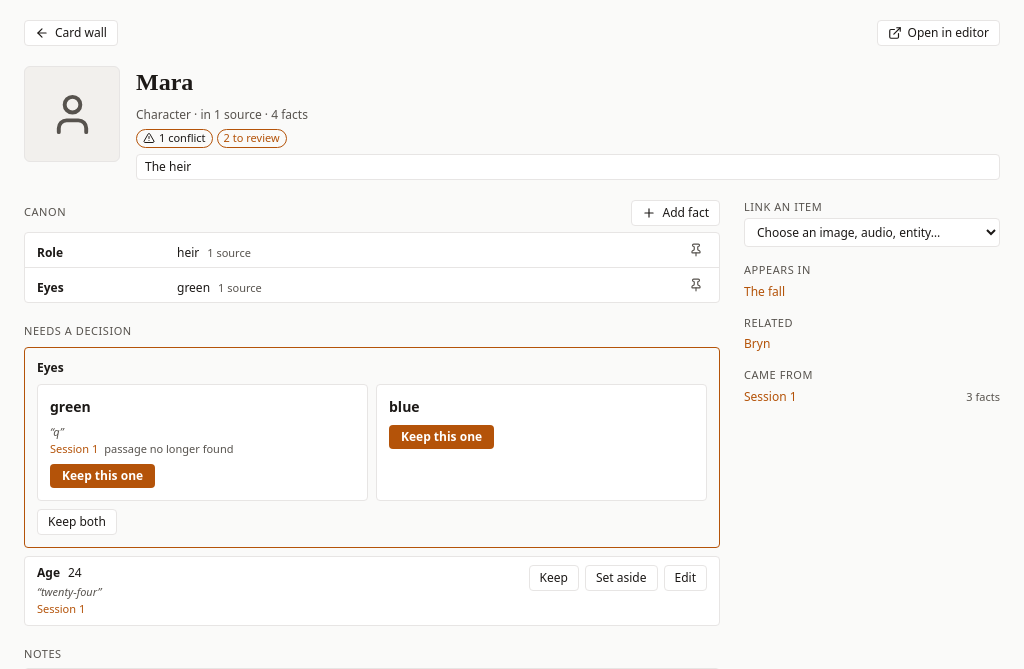
Scenario: EntityCard › adds a kept manual fact
The image size is (1024, 669).
Click the button "Add fact".
click(676, 212)  # box [632,200,720,226]
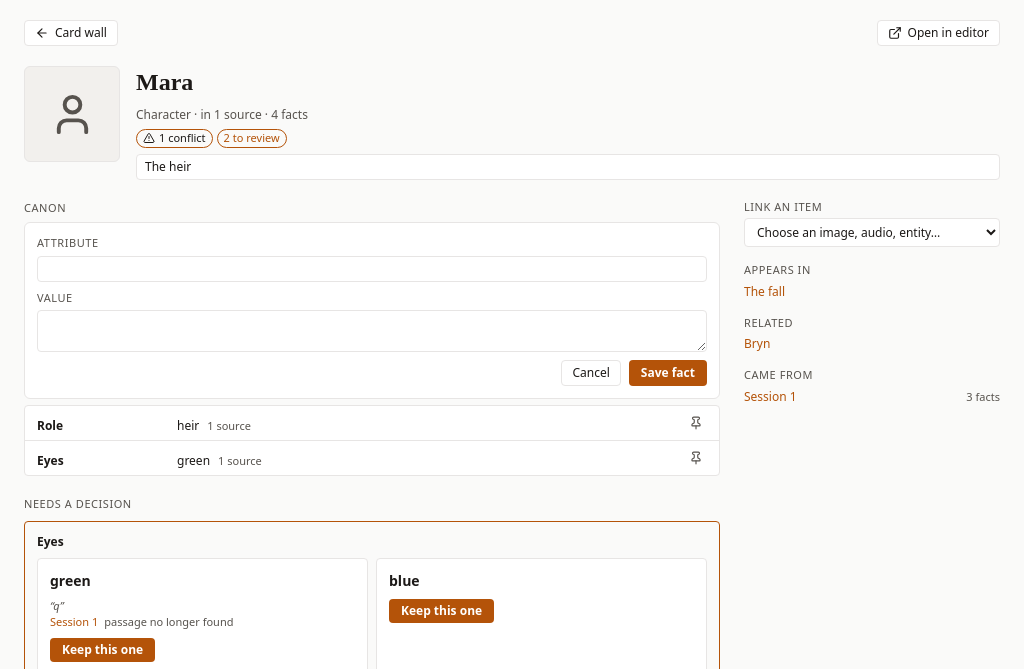
Type "Hair" into the field labelled "Attribute".
click(372, 268); type("Hair")  # box [37,256,707,282]
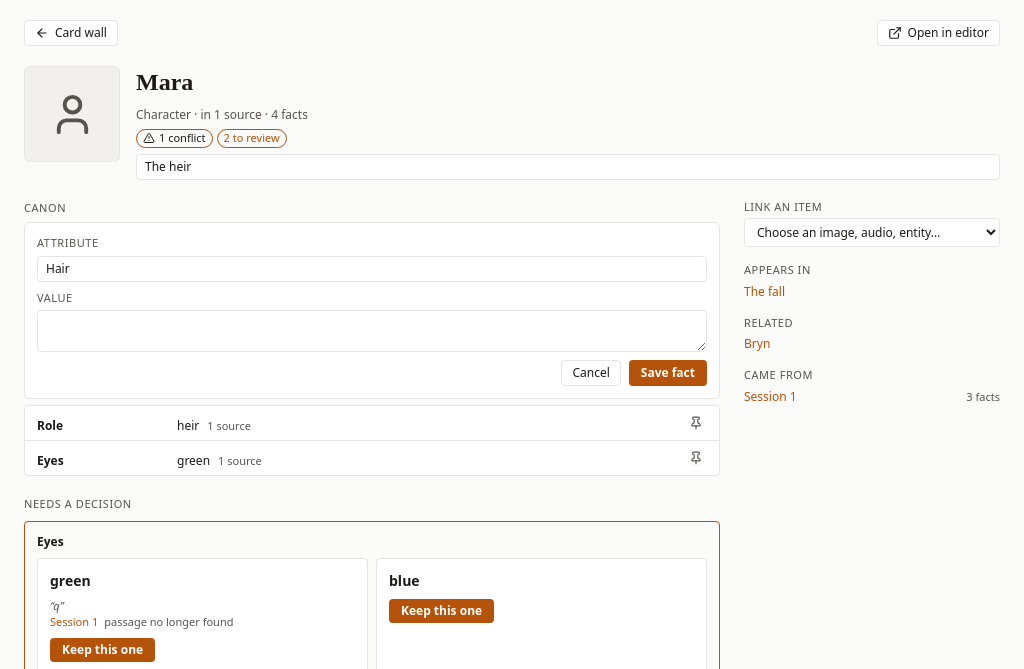
Type "red" into the text box labelled "Value".
click(372, 331); type("red")  # box [37,310,707,352]
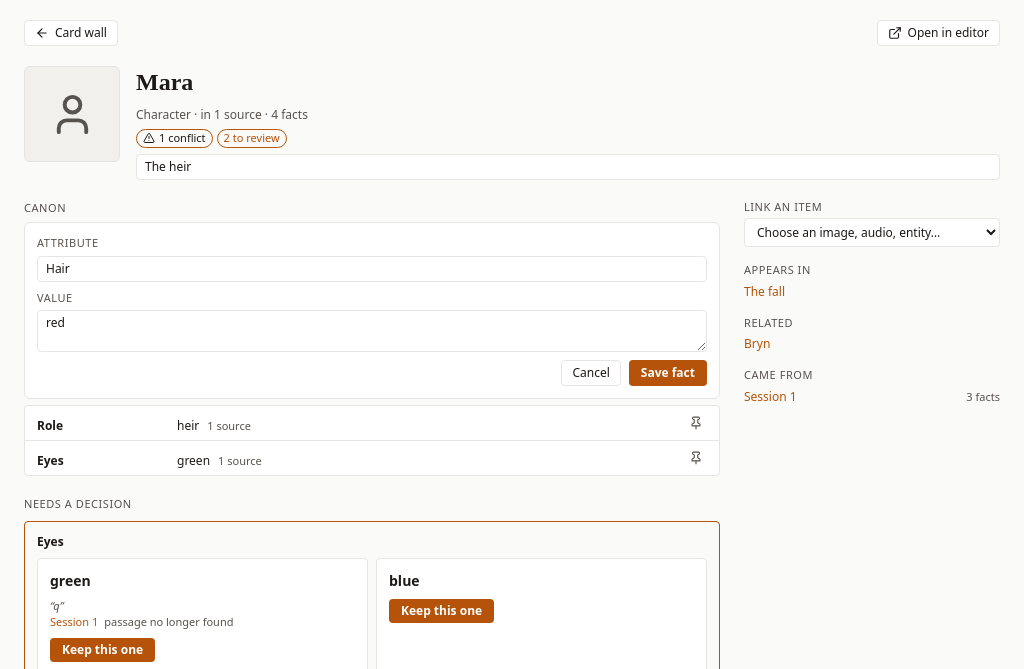
Click the button "Save fact".
click(668, 373)  # box [629,360,707,386]
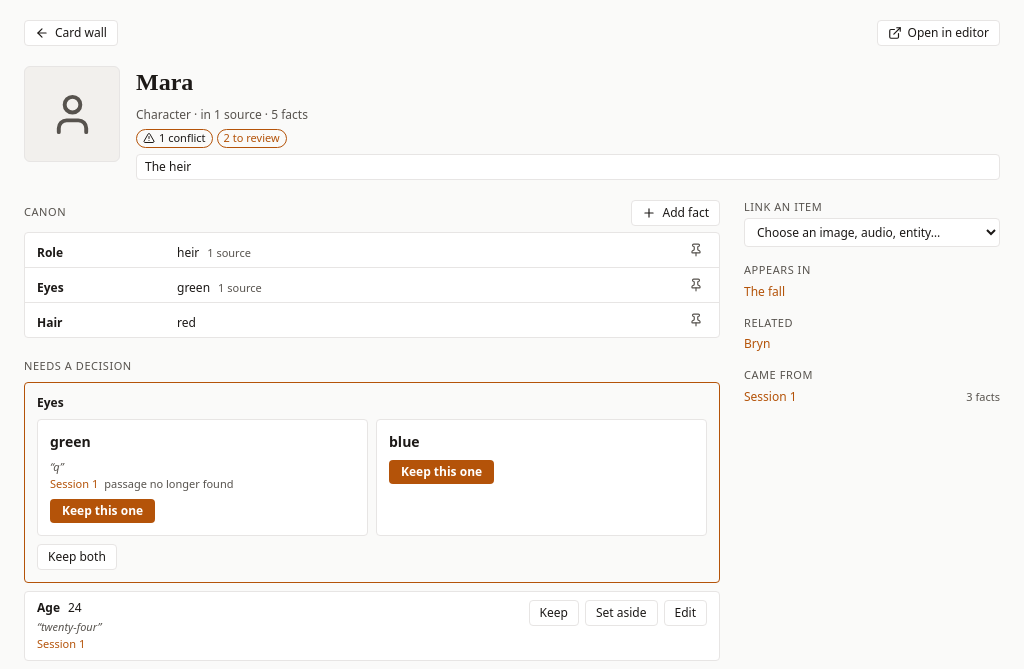
Check: the text "red" is shown, box [177,314,196,330]
